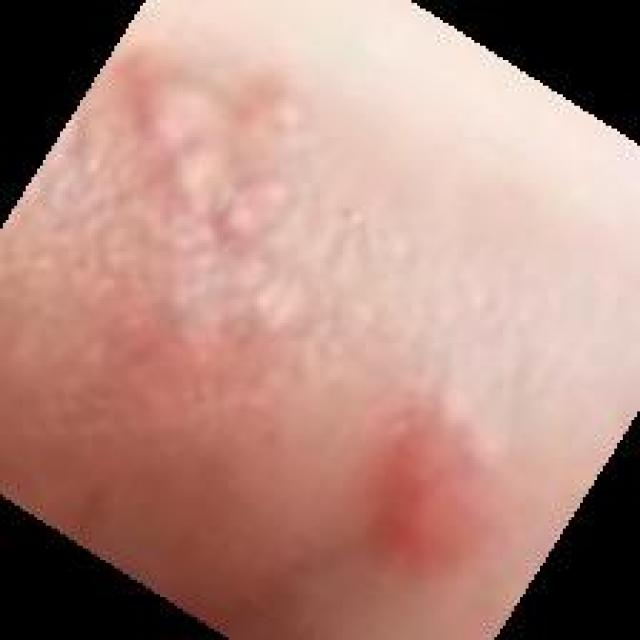monkeypox: (66, 60, 520, 626)
